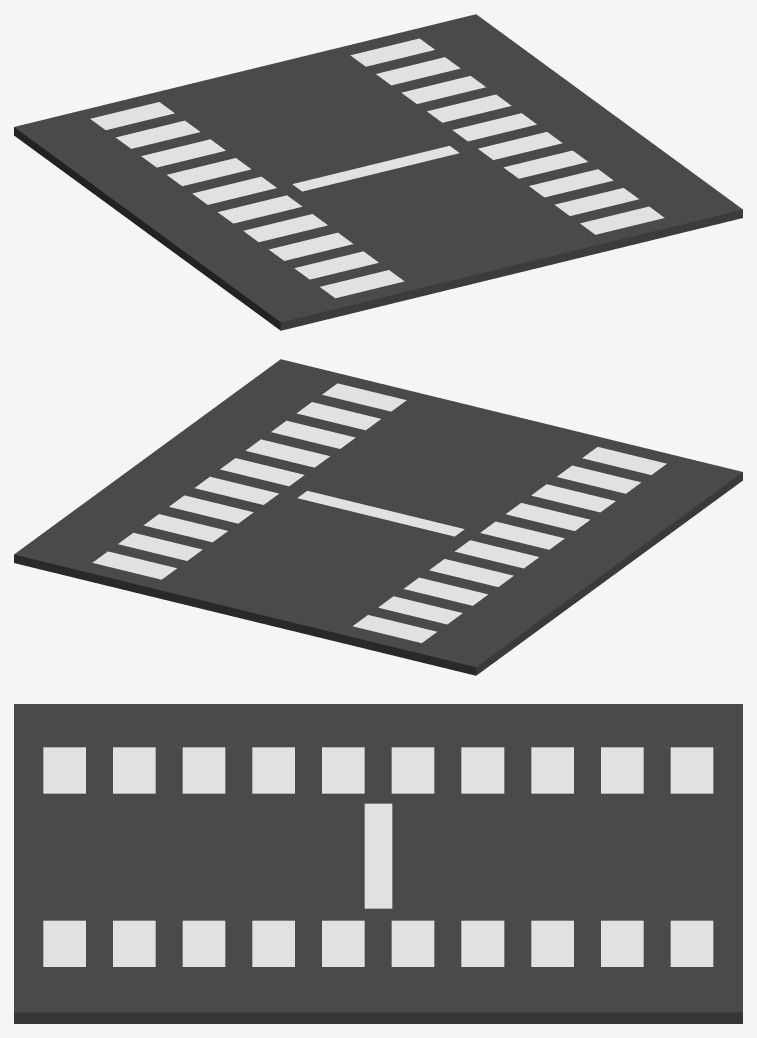
File: aft alp 2 dual zebra.fbx
The picture shows the model from 3 angles, top to bottom: view 1: azimuth 30°, elevation 25°; view 2: azimuth 150°, elevation 25°; view 3: azimuth 270°, elevation 25°; orthographic projection. The views are drawn at different scales.
Parts seen in each view (by area): view 1: aft_alp_roads_2_dual_zebra; view 2: aft_alp_roads_2_dual_zebra; view 3: aft_alp_roads_2_dual_zebra.
Part boxes in pixels (x1,y1,x2,y2): aft_alp_roads_2_dual_zebra: (14,14,742,330); aft_alp_roads_2_dual_zebra: (14,359,742,675); aft_alp_roads_2_dual_zebra: (14,704,742,1023).
Bounding box in the file's own units: 1000 × 18.01 × 1000.
